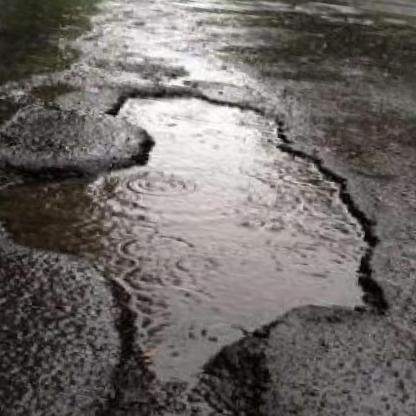pothole: (0, 73, 398, 349)
